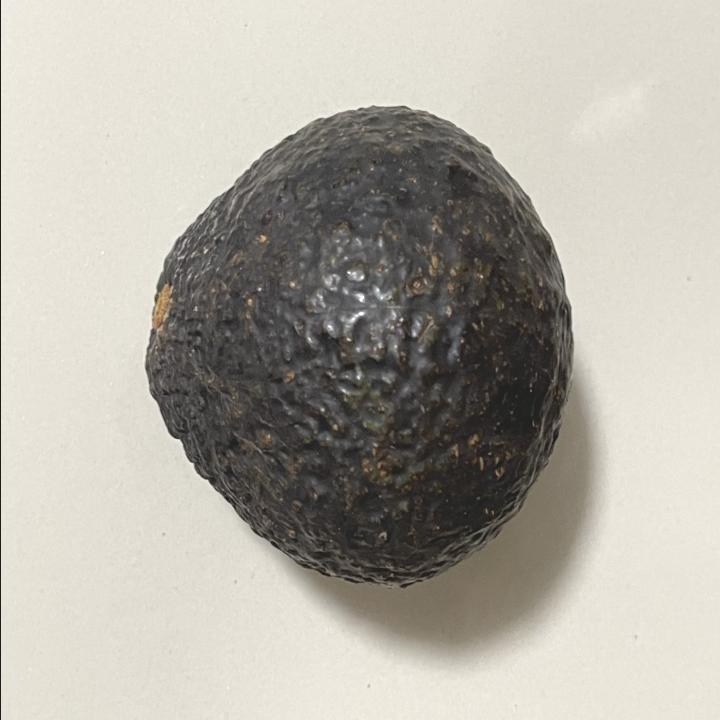Level2: (134, 102, 577, 596)
